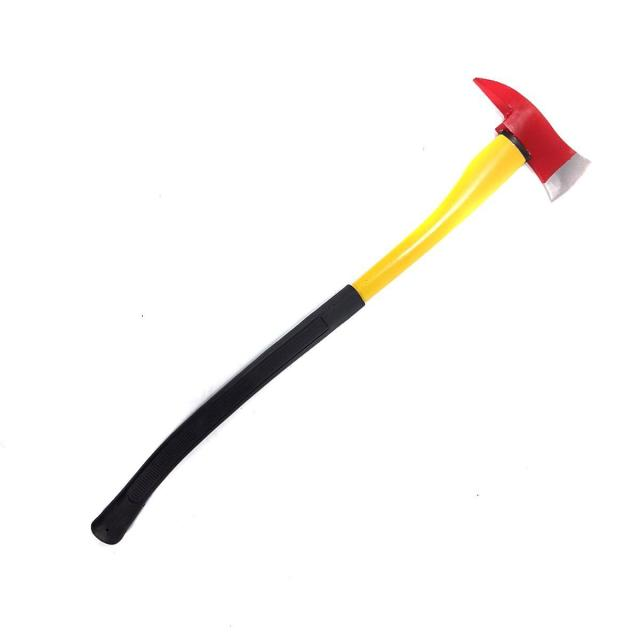Kapak: (34, 71, 615, 573)
